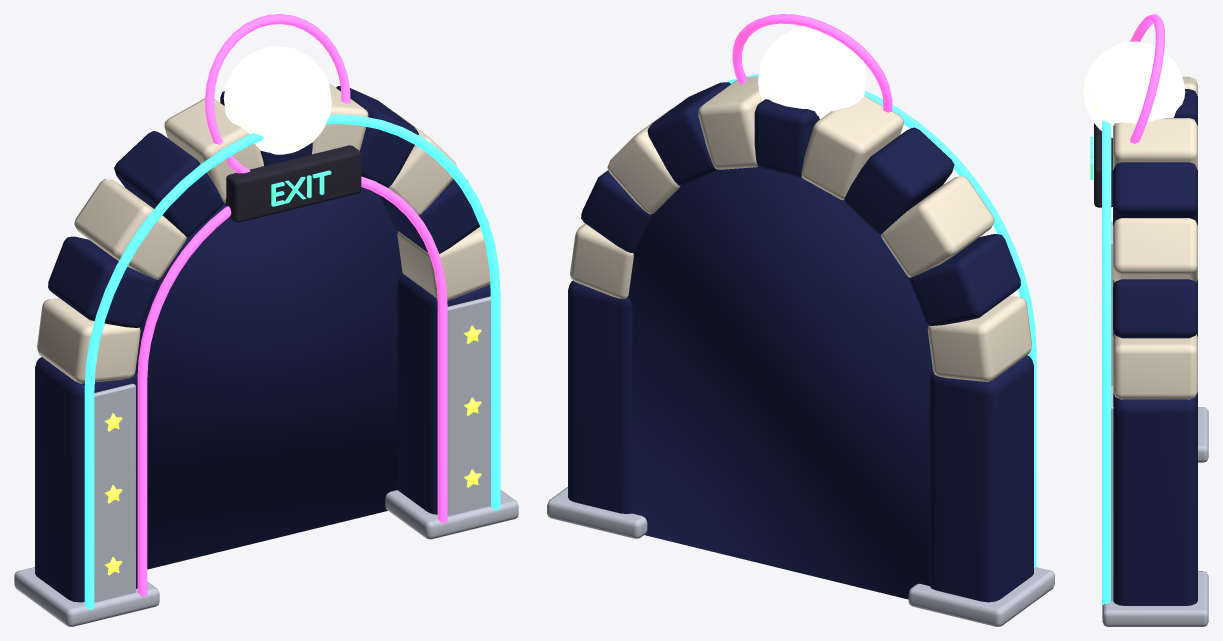
The model's file is mall_portal_arch.glb.
3 views of the same model, side by side, from view 1: azimuth 30°, elevation 25°; view 2: azimuth 150°, elevation 25°; view 3: azimuth 270°, elevation 25° (orthographic). The views are drawn at different scales.
Parts seen in each view (by area): view 1: PortalArch; view 2: PortalArch; view 3: PortalArch.
Boxes of the visible parts, x1,y1,x2,y2 form: PortalArch: [14, 14, 518, 626]; PortalArch: [547, 14, 1054, 626]; PortalArch: [1083, 14, 1208, 626].
Size of the model in its own units: 4.61 by 5.22 by 1.18.
